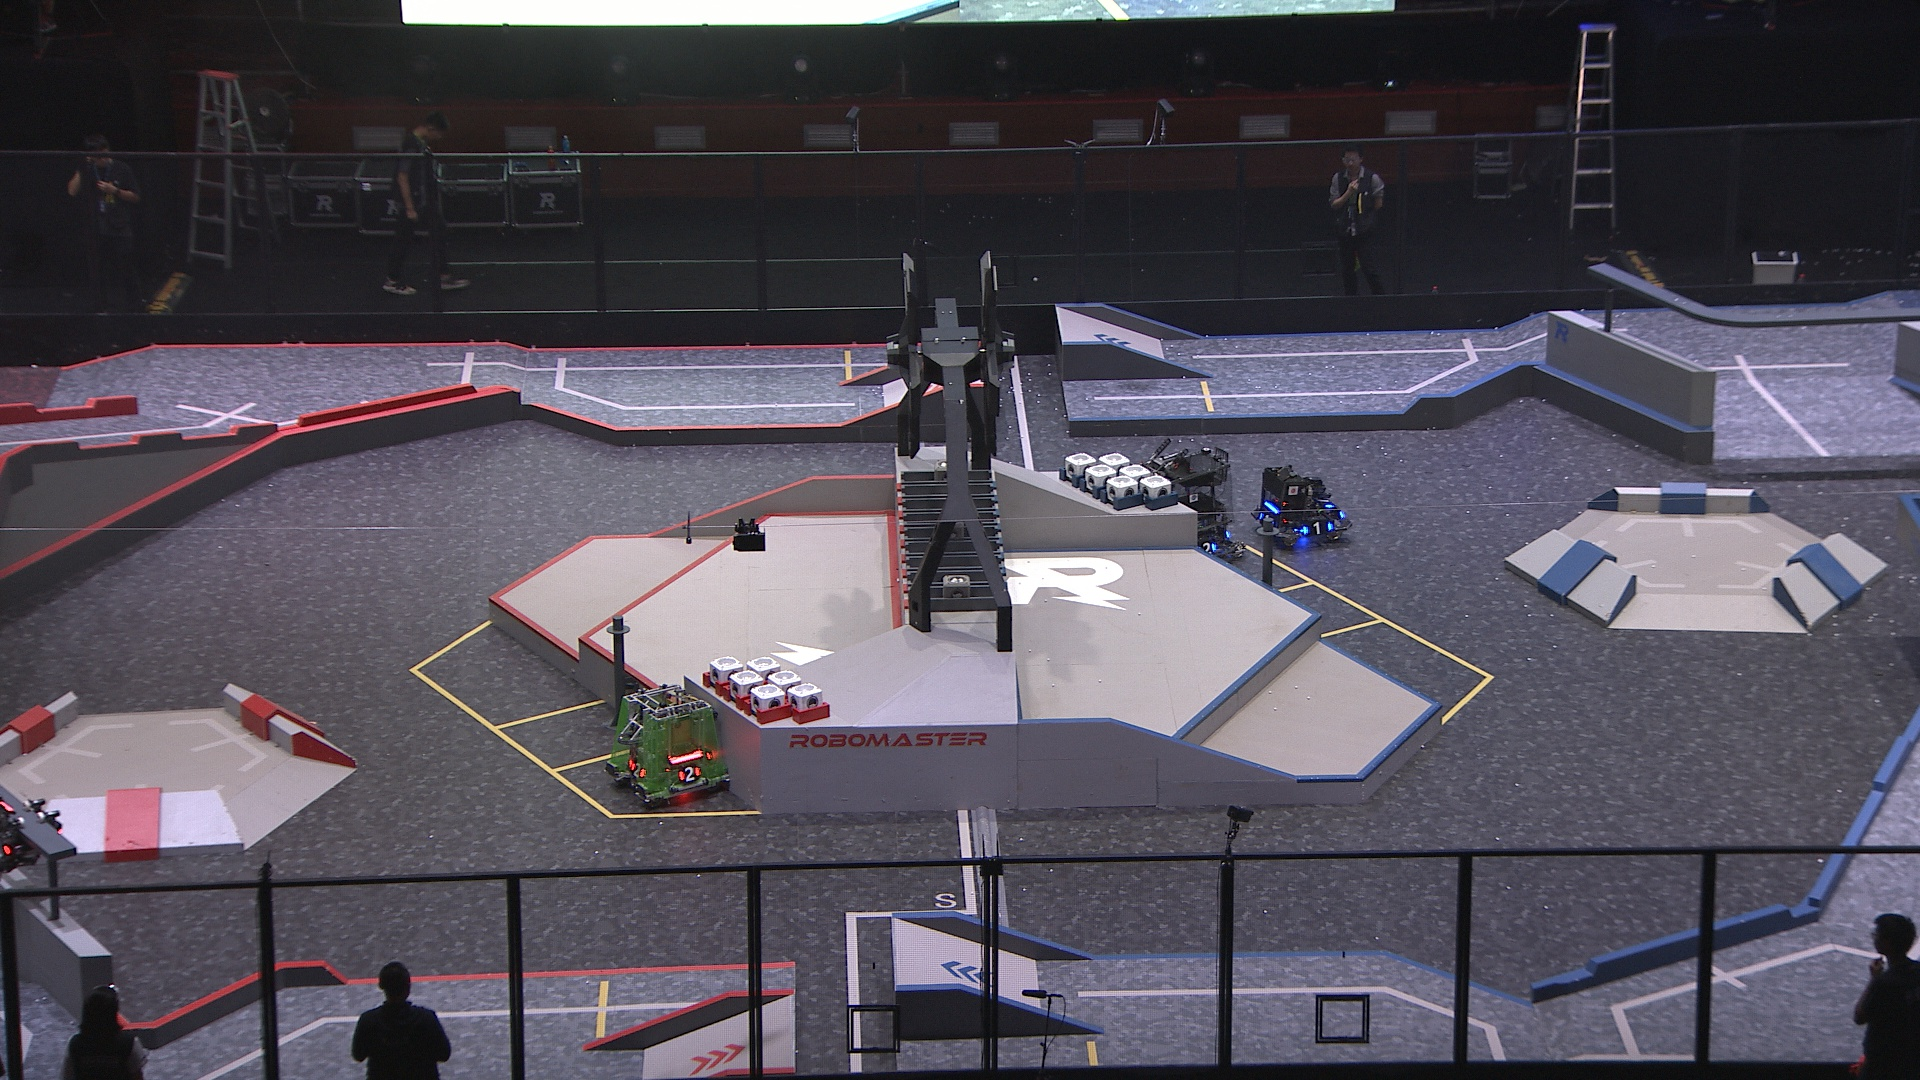armor: (1302, 520, 1337, 538), (678, 765, 703, 785), (626, 760, 647, 782), (1315, 496, 1337, 513), (1197, 541, 1218, 556), (1255, 512, 1275, 524)
car: (605, 680, 732, 808), (1139, 446, 1247, 564), (1250, 463, 1354, 553)
